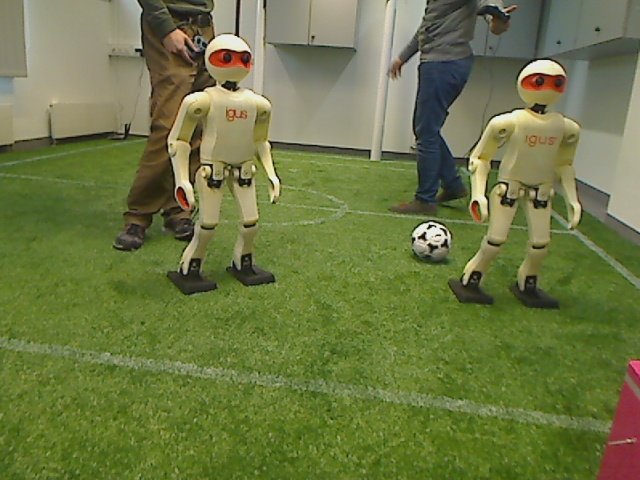ball: (408, 217, 454, 265)
robot: (452, 55, 581, 309), (164, 31, 286, 297)
